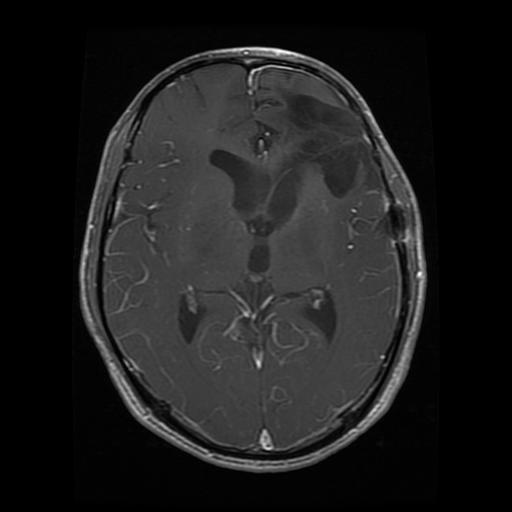Gliomia_tumour: (279, 90, 367, 201)
